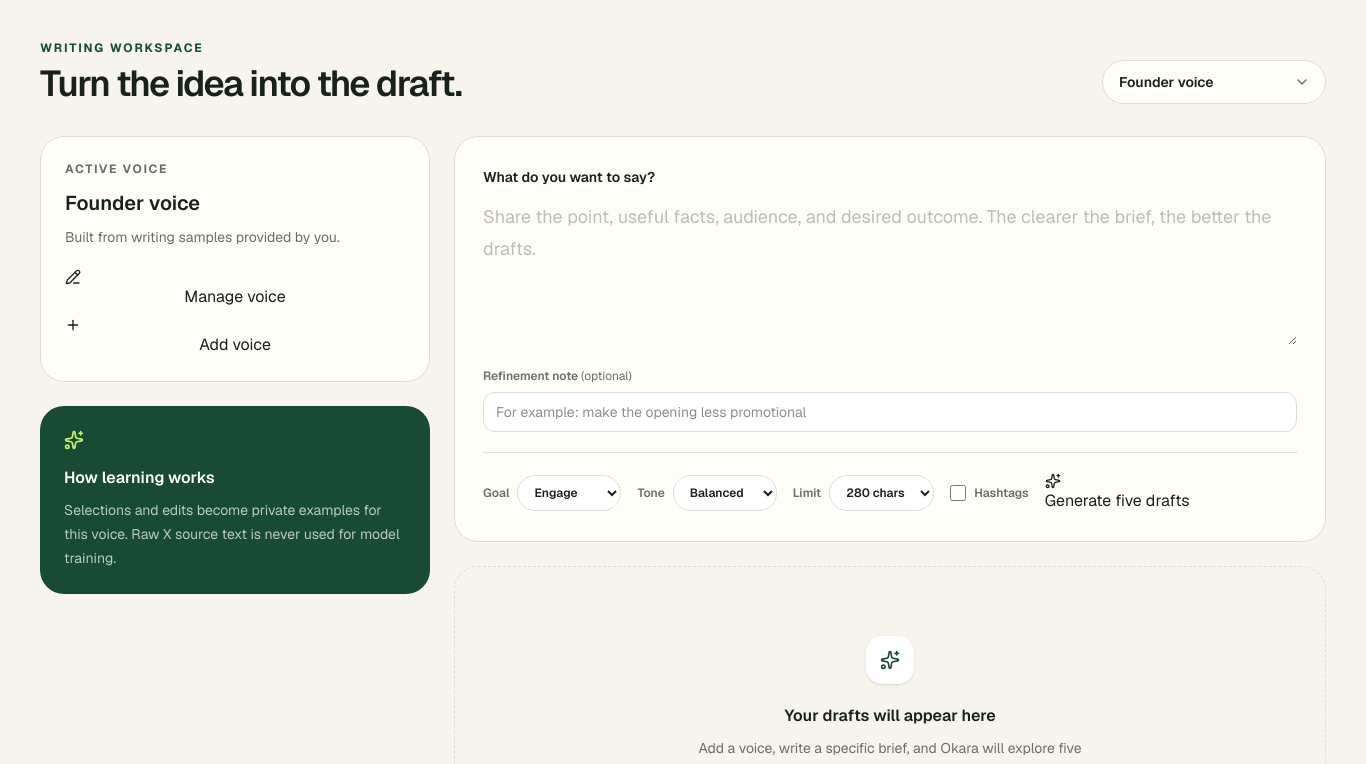
it: Workspace voice management › opens the active voice editor directly from Write
Click the button "Manage voice": (235, 289) [65,269,405,309]
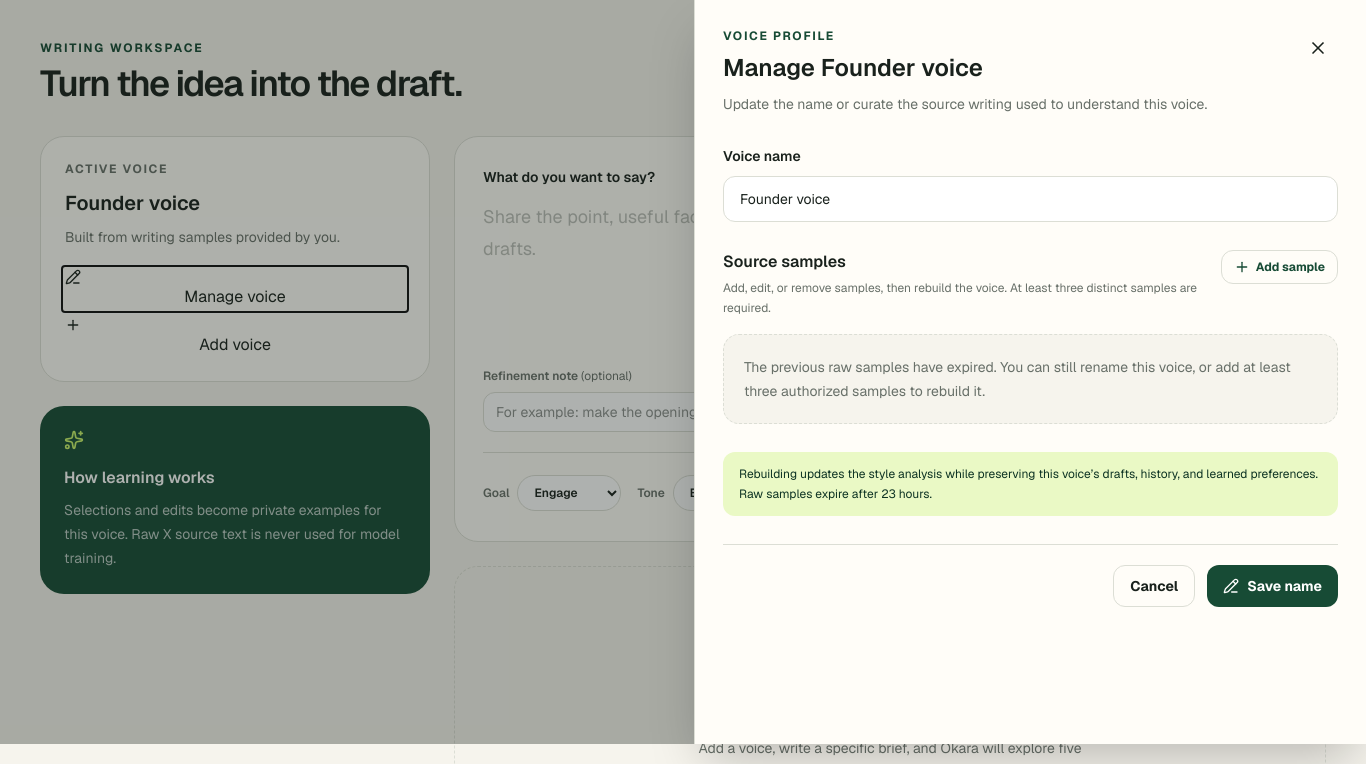
Now the dialog "Manage Founder voice" is shown, box [694,0,1365,744]
Now the text "previous raw samples have expired" is shown, box [744,358,1291,400]
